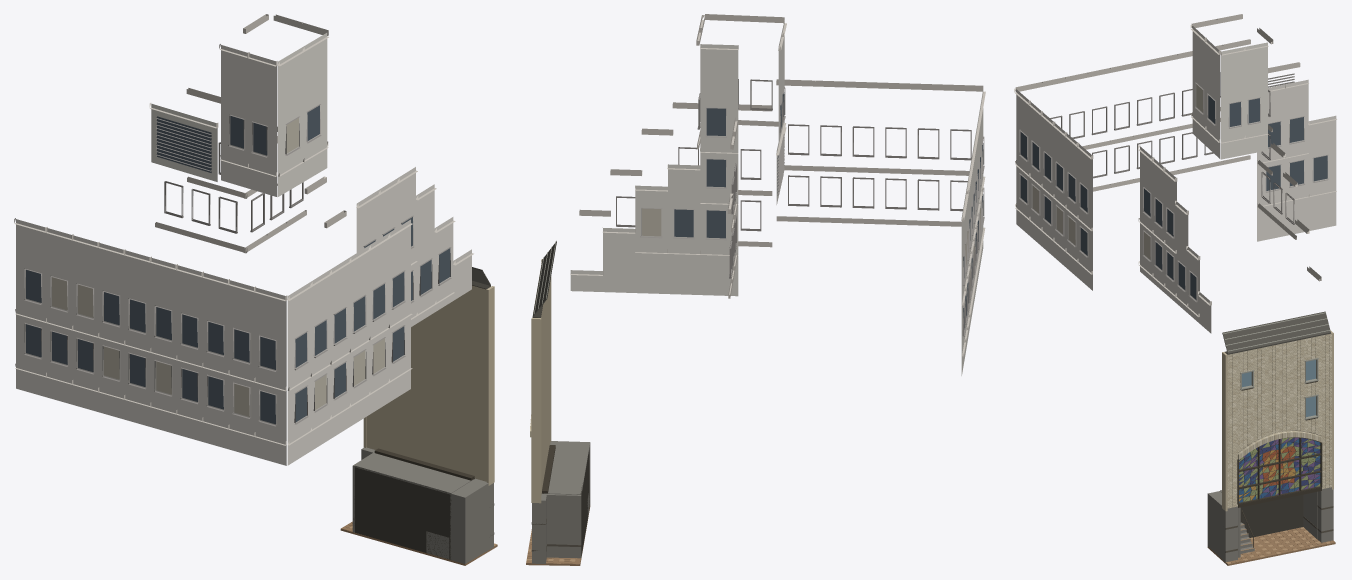
Rendered from d16-cosmo-composite.glb.
3 views of the same model, side by side, from view 1: azimuth 30°, elevation 25°; view 2: azimuth 150°, elevation 25°; view 3: azimuth 270°, elevation 25° (orthographic). The views are drawn at different scales.
Parts seen in each view (by area): view 1: INFERRED_upper_facade.001, 01_OBSERVED_Tiled_front_and_vertical_edges; view 2: INFERRED_upper_facade.001, 01_OBSERVED_Tiled_front_and_vertical_edges; view 3: INFERRED_upper_facade.001, 01_OBSERVED_Tiled_front_and_vertical_edges.
Part boxes in pixels (box(x1,y1,x2,y2)): INFERRED_upper_facade.001: box(14, 14, 473, 465); 01_OBSERVED_Tiled_front_and_vertical_edges: box(340, 267, 497, 565); INFERRED_upper_facade.001: box(570, 14, 985, 375); 01_OBSERVED_Tiled_front_and_vertical_edges: box(526, 241, 590, 565); INFERRED_upper_facade.001: box(1014, 14, 1336, 333); 01_OBSERVED_Tiled_front_and_vertical_edges: box(1207, 311, 1335, 565).
Size of the model in its own units: 26.63 by 30.43 by 19.92.
Materials: 2 (2 with a texture image).
